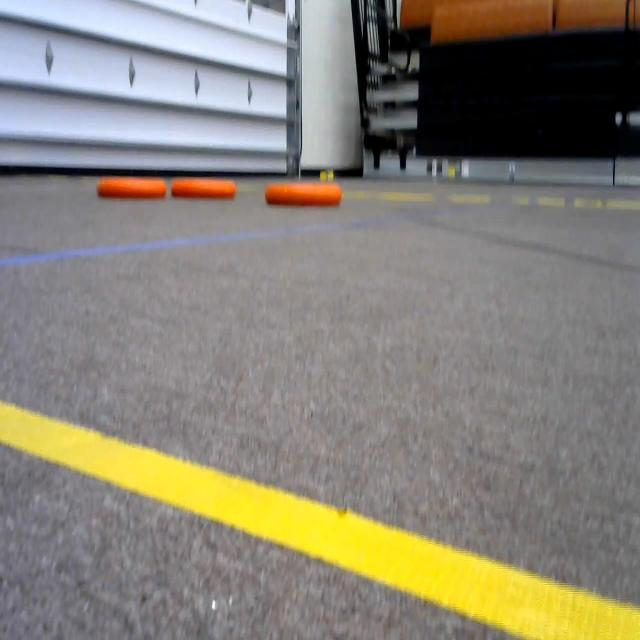note: (261, 176, 347, 213), (166, 165, 246, 204), (93, 166, 169, 207)
